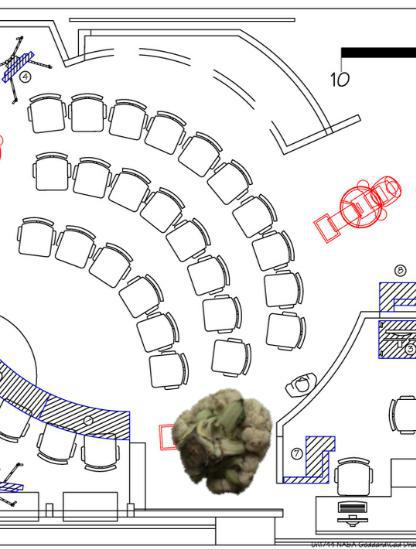Cauliflower: (174, 388, 282, 496)
